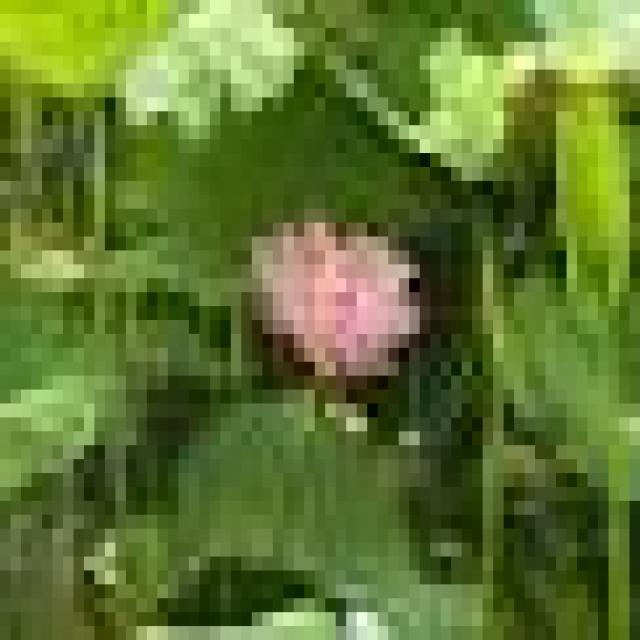lotus: (234, 203, 445, 394)
